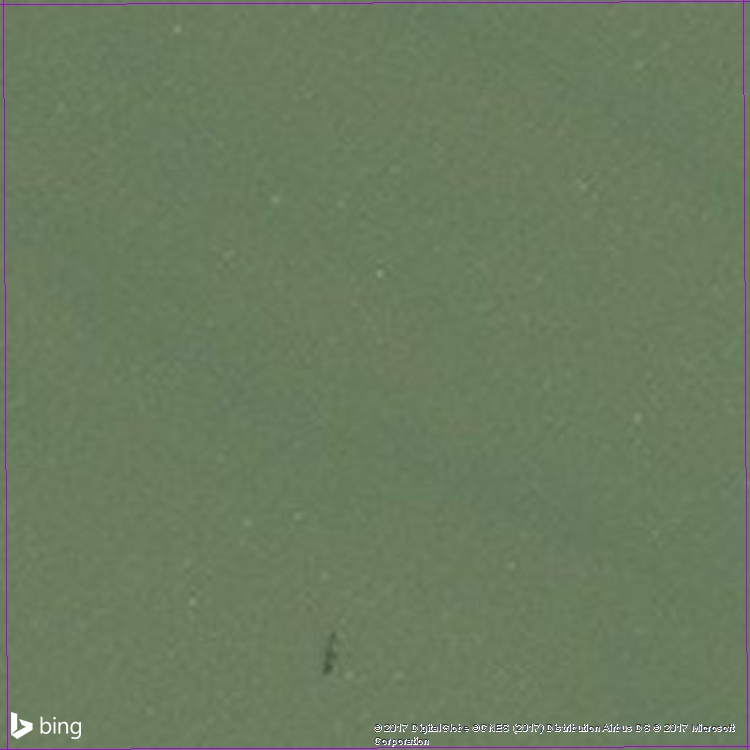boat: (317, 607, 351, 683)
